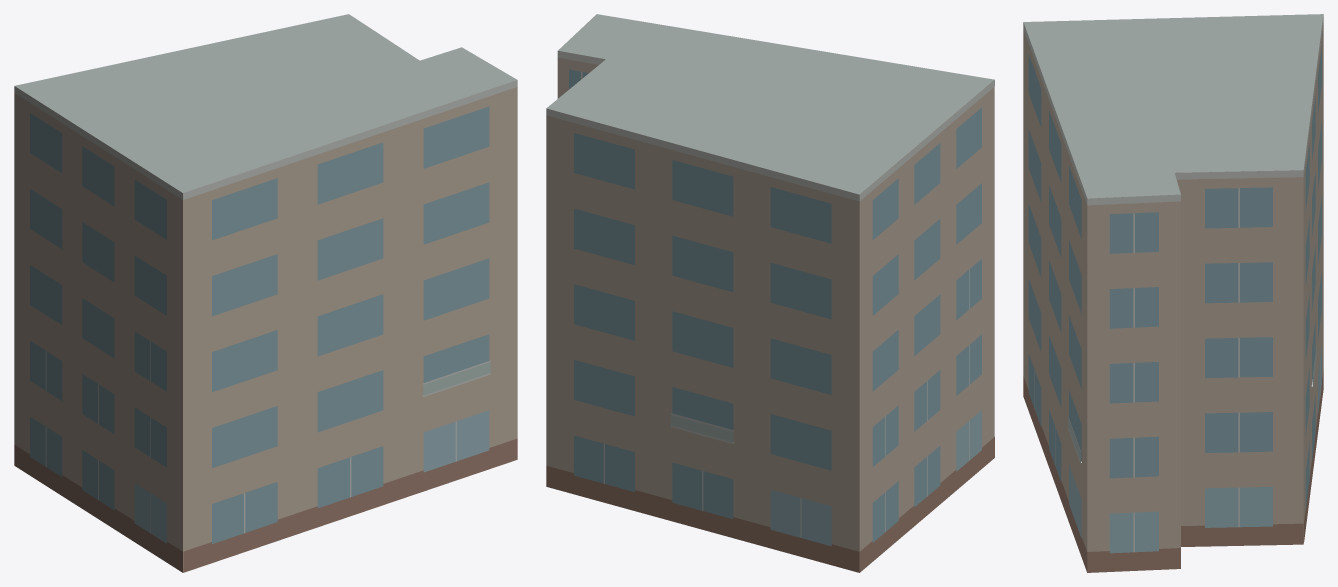
Rendered from survey-upis-32894484.glb.
The picture shows the model from 3 angles, left to right: view 1: azimuth 30°, elevation 25°; view 2: azimuth 150°, elevation 25°; view 3: azimuth 270°, elevation 25°; orthographic projection.
Parts seen in each view (by area): view 1: survey-upis-32894484.tmp; view 2: survey-upis-32894484.tmp; view 3: survey-upis-32894484.tmp.
Part boxes in pixels (x1,y1,x2,y2): survey-upis-32894484.tmp: (14,14,517,572); survey-upis-32894484.tmp: (546,14,994,572); survey-upis-32894484.tmp: (1023,14,1323,572).
Size of the model in its own units: 14.18 by 13.4 by 9.75.
